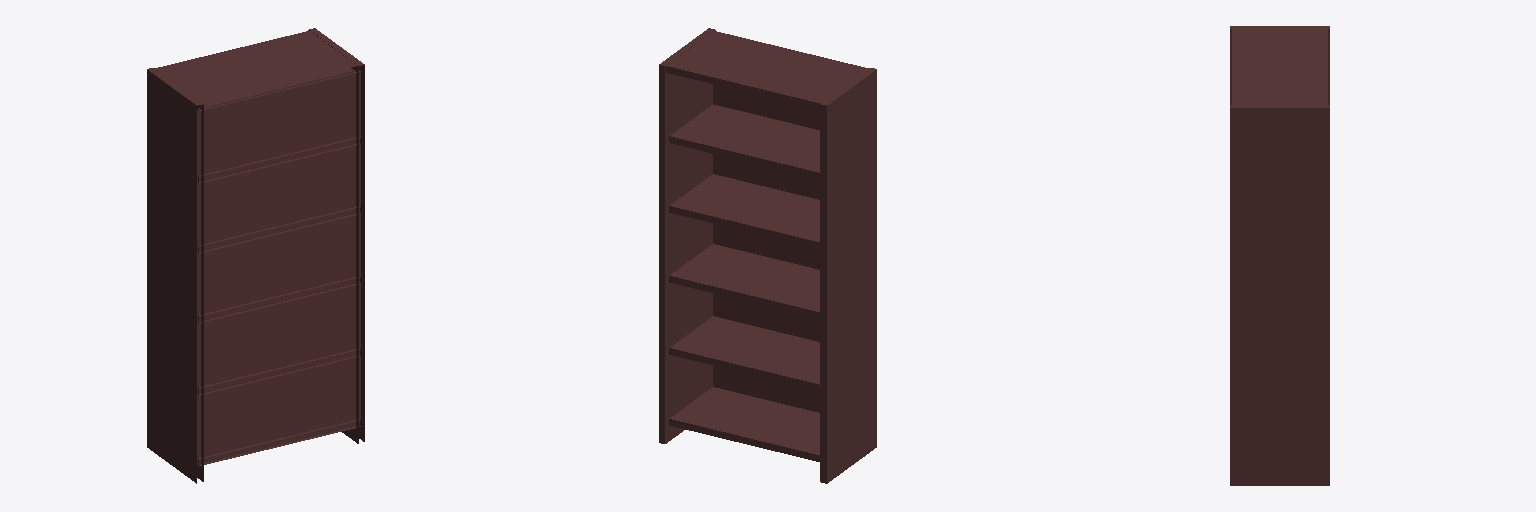
The model's file is shelves4.obj.
The picture shows the model from 3 angles: view 1: azimuth 30°, elevation 25°; view 2: azimuth 150°, elevation 25°; view 3: azimuth 270°, elevation 25°; orthographic projection.
Visible parts, largest first — view 1: shelves4; view 2: shelves4; view 3: shelves4.
Boxes of the visible parts, box(x1,y1,x2,y2) form: shelves4: box(147, 28, 364, 483); shelves4: box(659, 28, 876, 483); shelves4: box(1230, 26, 1329, 485).
Size of the model in its own units: 0.8572 by 1.84 by 0.4432.